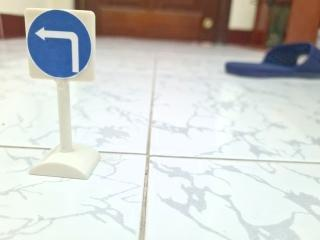left: (16, 6, 103, 90)
